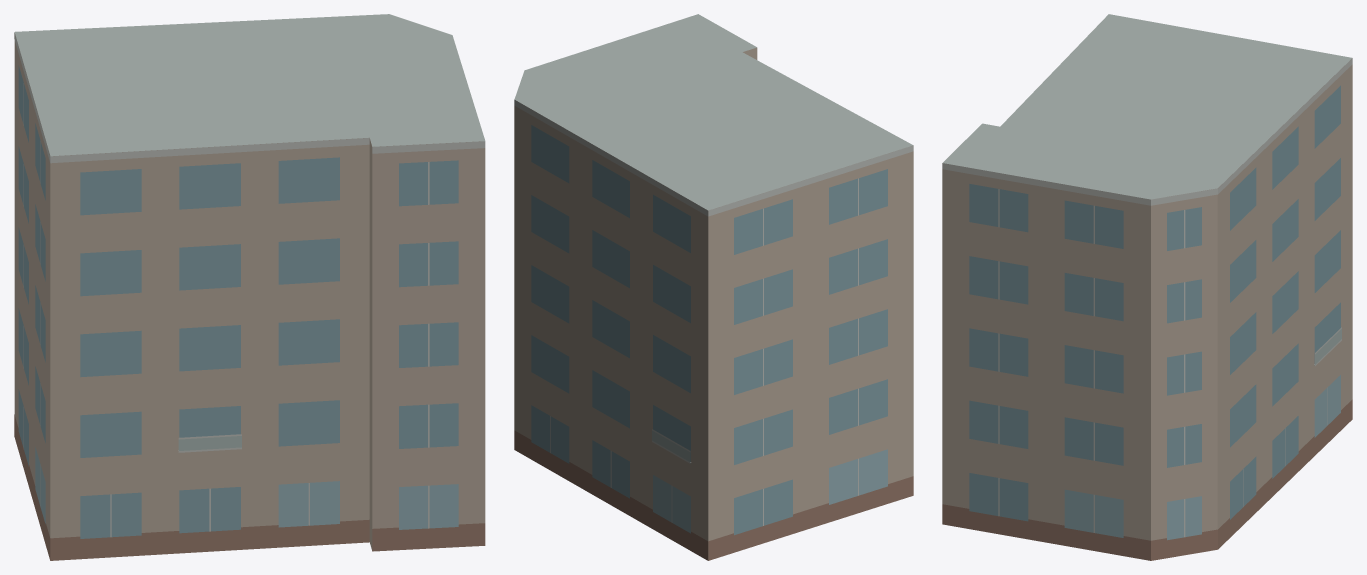
File: survey-upis-32878535.glb
The picture shows the model from 3 angles, left to right: view 1: azimuth 30°, elevation 25°; view 2: azimuth 150°, elevation 25°; view 3: azimuth 270°, elevation 25°; orthographic projection. The views are drawn at different scales.
Visible parts, largest first — view 1: survey-upis-32878535.tmp; view 2: survey-upis-32878535.tmp; view 3: survey-upis-32878535.tmp.
Part boxes in pixels (left/top/right/bottom): survey-upis-32878535.tmp: left=14, top=14, right=485, bottom=560; survey-upis-32878535.tmp: left=514, top=14, right=913, bottom=560; survey-upis-32878535.tmp: left=942, top=14, right=1352, bottom=560.
Bounding box in the file's own units: 15.65 × 14.2 × 14.63.
